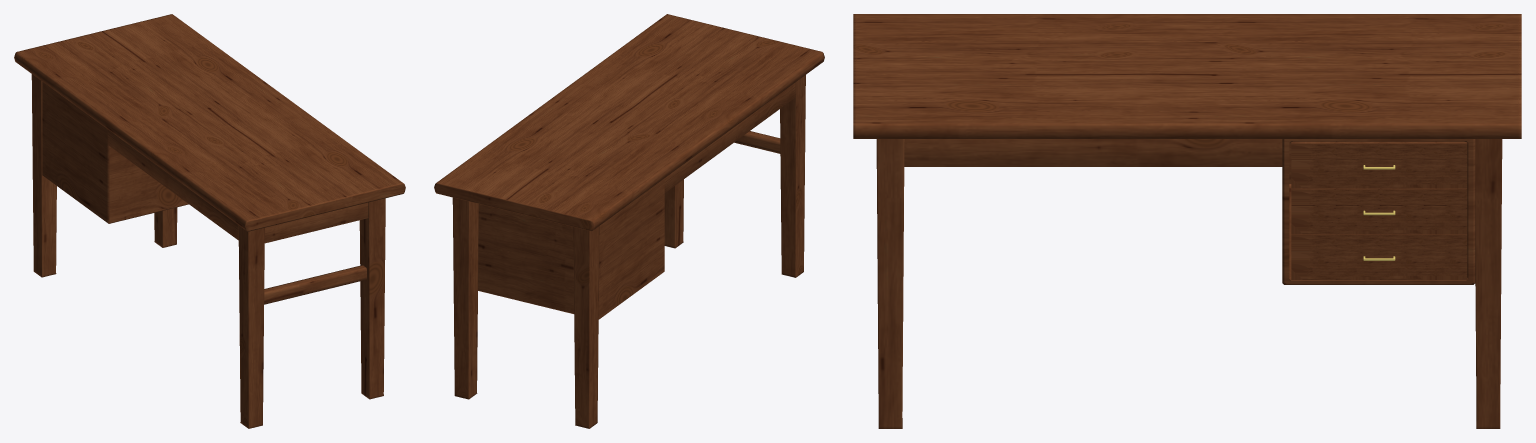
Rendered from Desk.fbx.
The picture shows the model from 3 angles, left to right: view 1: azimuth 30°, elevation 25°; view 2: azimuth 150°, elevation 25°; view 3: azimuth 270°, elevation 25°; orthographic projection. The views are drawn at different scales.
Visible parts, largest first — view 1: DeskBase; view 2: DeskBase; view 3: DeskBase, DrawerTop, Drawer Middle, Drawer Bottom.
Part boxes in pixels (box(x1,y1,x2,y2)): DeskBase: box(14, 14, 405, 428); DeskBase: box(434, 14, 824, 428); DeskBase: box(853, 14, 1521, 428); DrawerTop: box(1291, 141, 1467, 188); Drawer Middle: box(1291, 188, 1467, 234); Drawer Bottom: box(1291, 234, 1467, 279).
Bounding box in the file's own units: 8.26 × 10.65 × 20.63.
2 materials, 1 textured.
